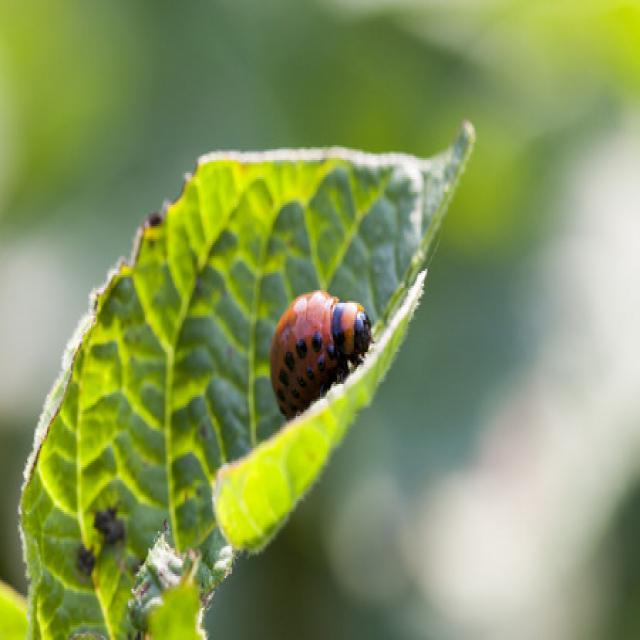ShuCaiHuaBanChong-Larva-: (254, 278, 368, 435)
